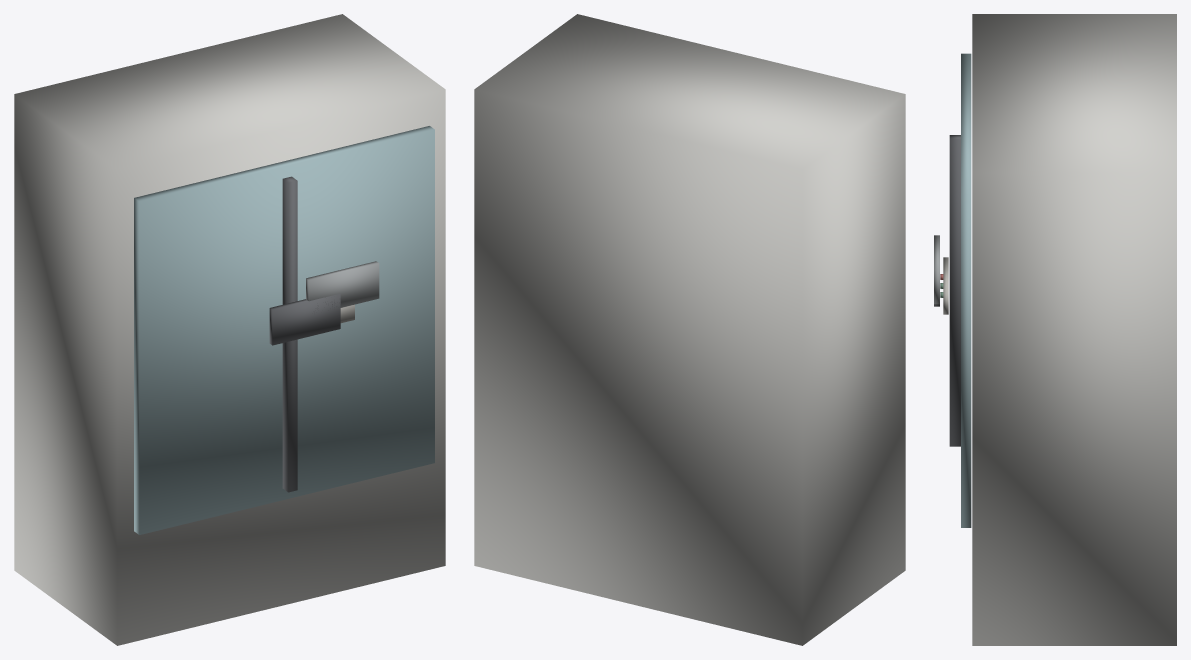
File: freezer_chest__weathered.glb
3 views of the same model, side by side, from view 1: azimuth 30°, elevation 25°; view 2: azimuth 150°, elevation 25°; view 3: azimuth 270°, elevation 25° (orthographic).
Parts seen in each view (by area): view 1: world; view 2: world; view 3: world.
Part boxes in pixels (bbox=[...]): world: bbox=[14, 14, 445, 645]; world: bbox=[474, 14, 905, 645]; world: bbox=[934, 14, 1176, 645].
Bounding box in the file's own units: 1.25 × 1.73 × 0.8068.
